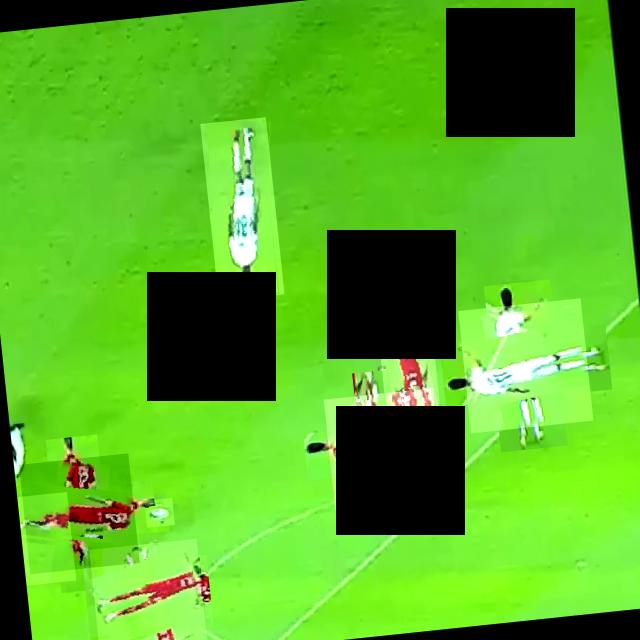ball: (144, 498, 174, 528)
soccer-player: (458, 298, 593, 433), (200, 117, 284, 300), (323, 388, 444, 510), (19, 453, 140, 574), (372, 280, 443, 452), (88, 538, 207, 640), (17, 492, 76, 586)
